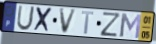M: (119, 12, 143, 40)
T: (81, 10, 96, 36)
U: (16, 6, 36, 32)
V: (58, 8, 78, 35)
X: (32, 7, 54, 34)
Z: (100, 11, 122, 38)
